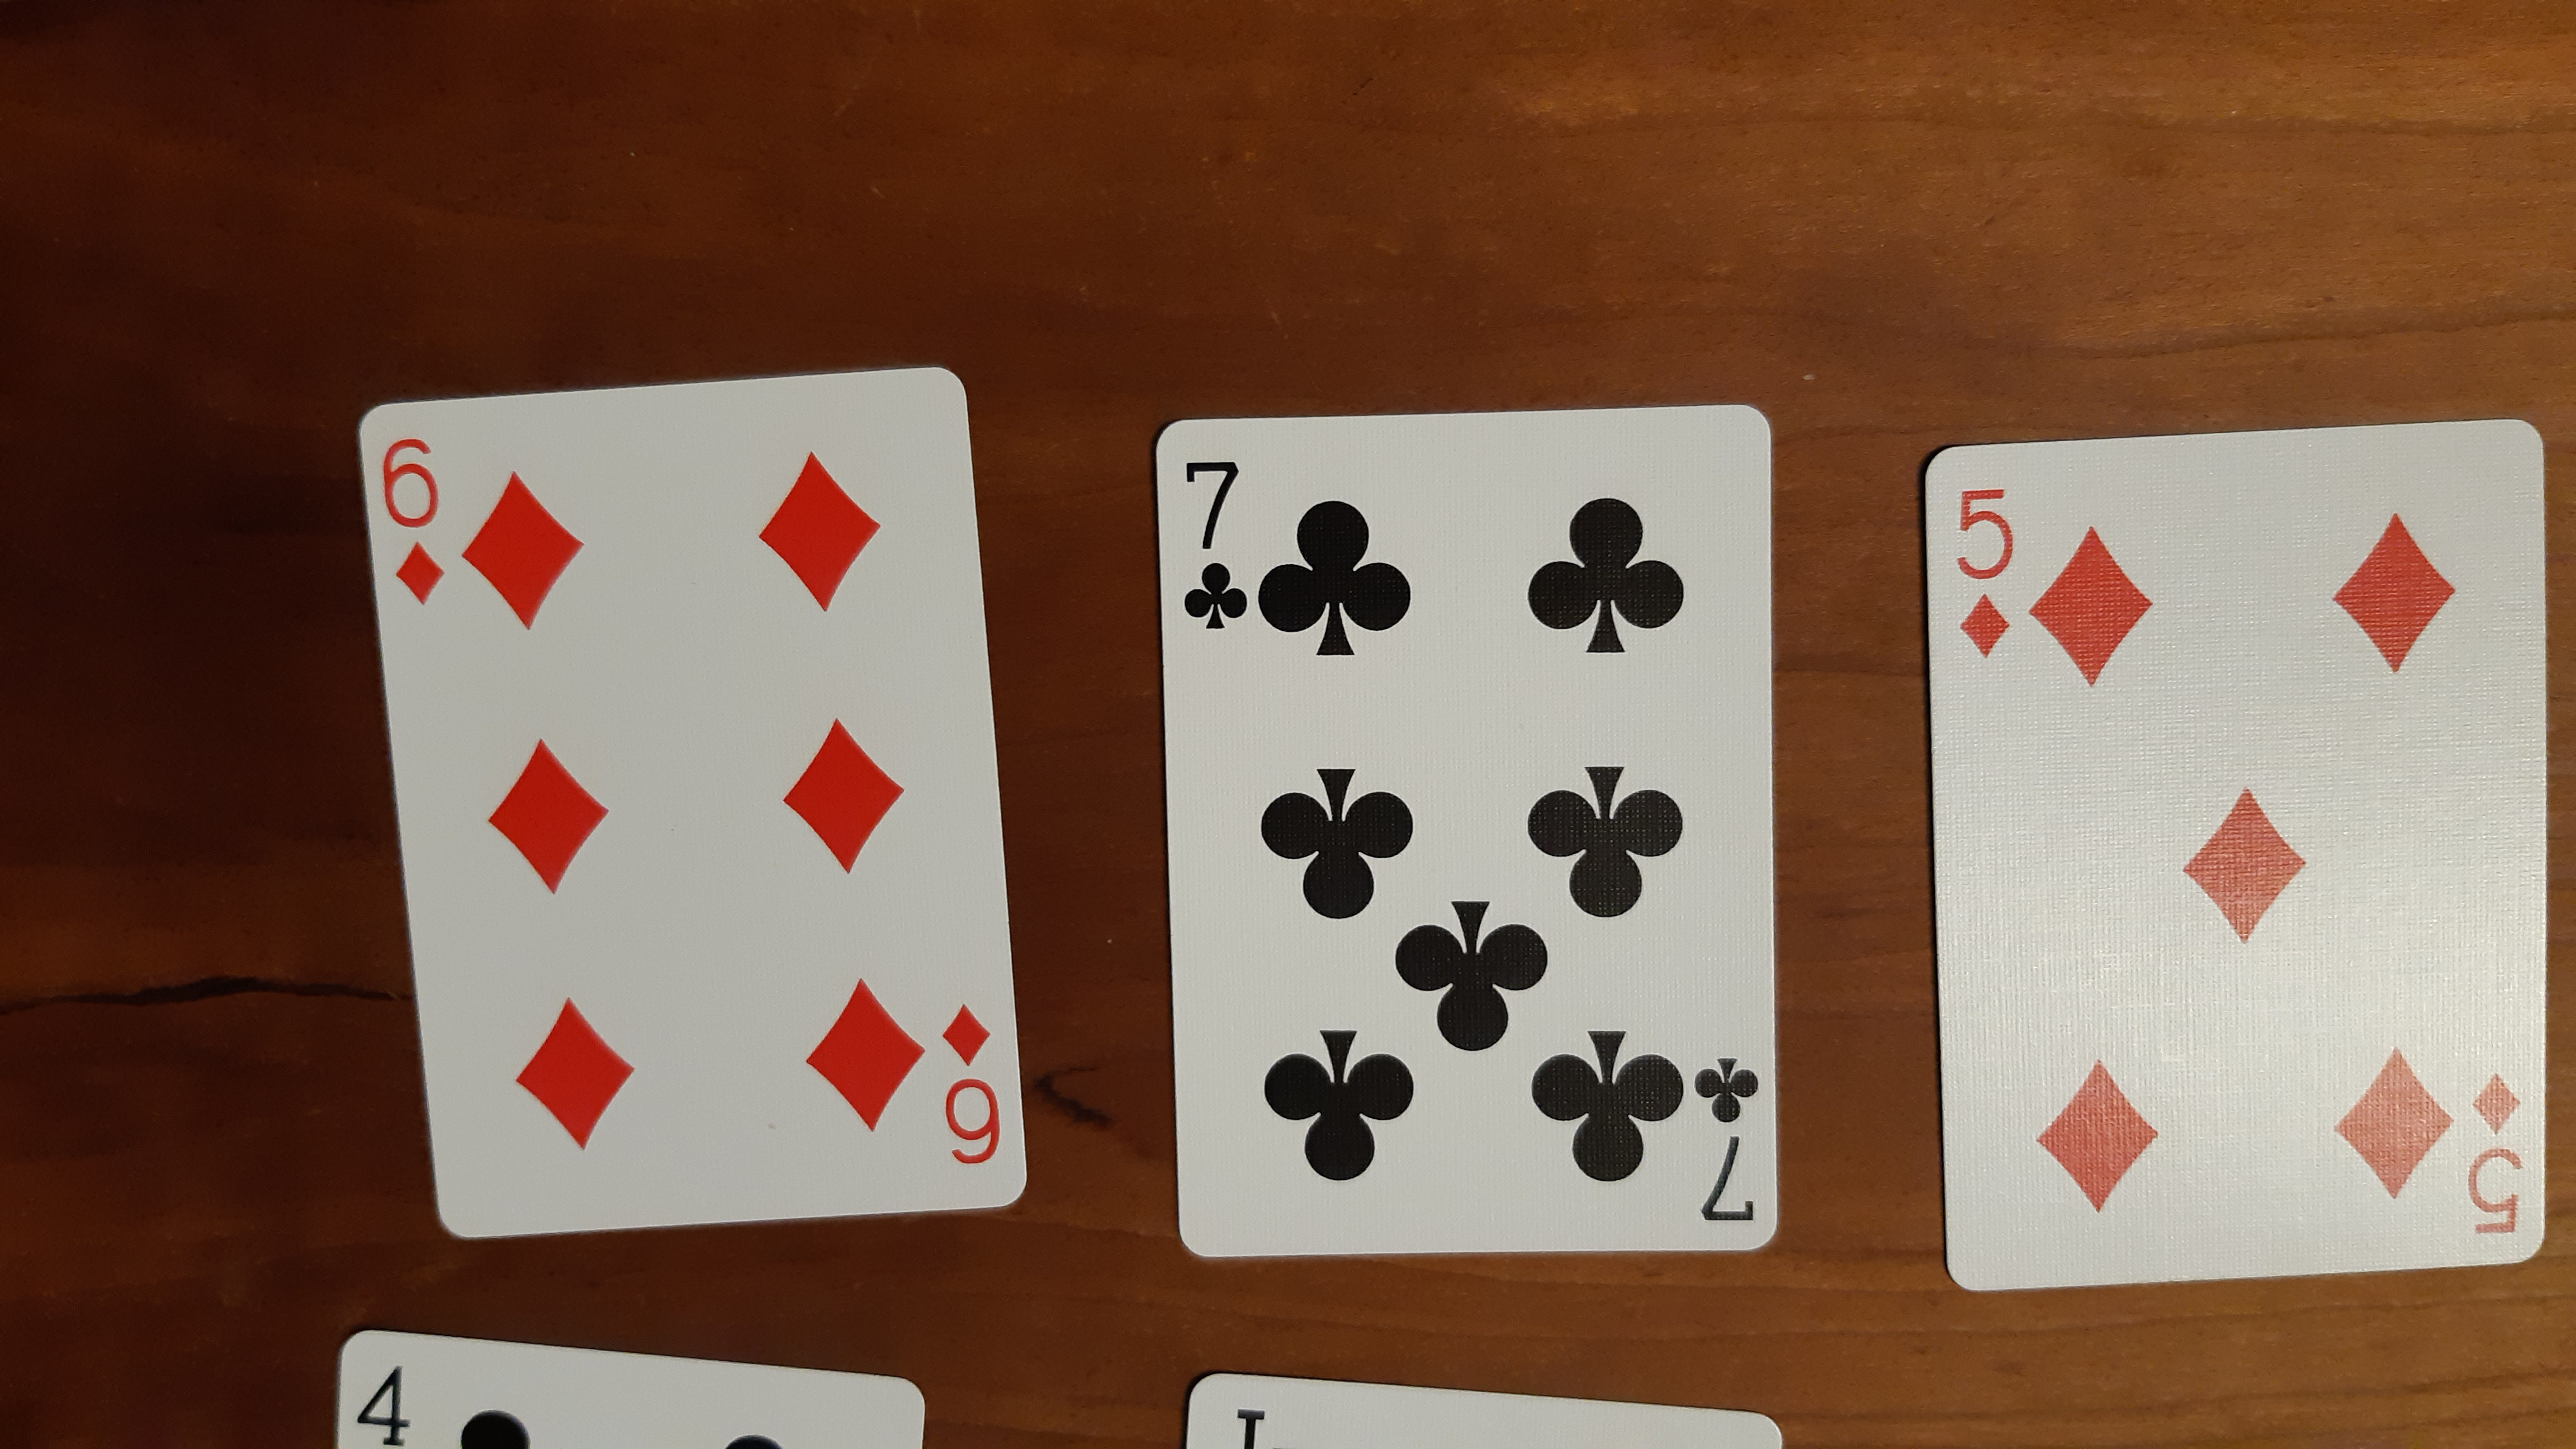Black_Club_7: (1171, 451, 1254, 642), (1691, 1049, 1769, 1233)
Red_Diamond_5: (1948, 481, 2020, 669), (2465, 1058, 2532, 1247)
Red_Diamond_6: (377, 430, 998, 1171)
